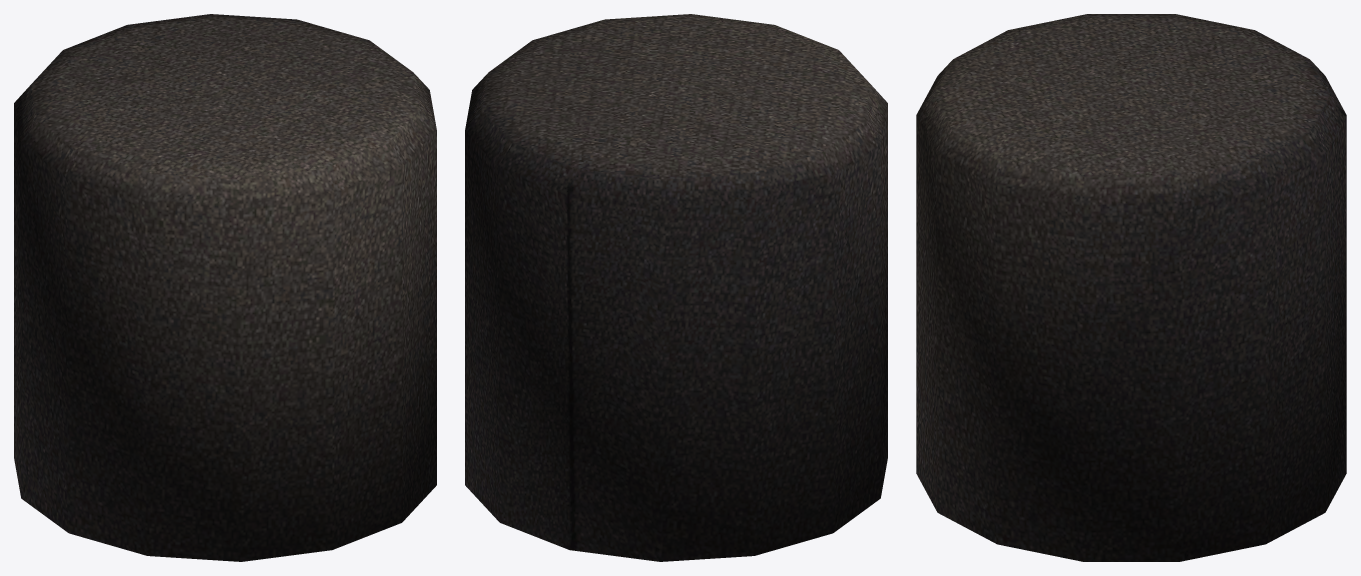
Rendered from SM_Ottoman_Seat.FBX.
3 renders of one model, left to right at view 1: azimuth 30°, elevation 25°; view 2: azimuth 150°, elevation 25°; view 3: azimuth 270°, elevation 25°, orthographic.
Parts seen in each view (by area): view 1: SM_Ottoman_Seat; view 2: SM_Ottoman_Seat; view 3: SM_Ottoman_Seat.
Boxes of the visible parts, box(x1,y1,x2,y2) form: SM_Ottoman_Seat: box(14, 14, 436, 561); SM_Ottoman_Seat: box(465, 14, 887, 561); SM_Ottoman_Seat: box(916, 14, 1346, 561).
Size of the model in its own units: 47.67 by 48.89 by 50.39.
